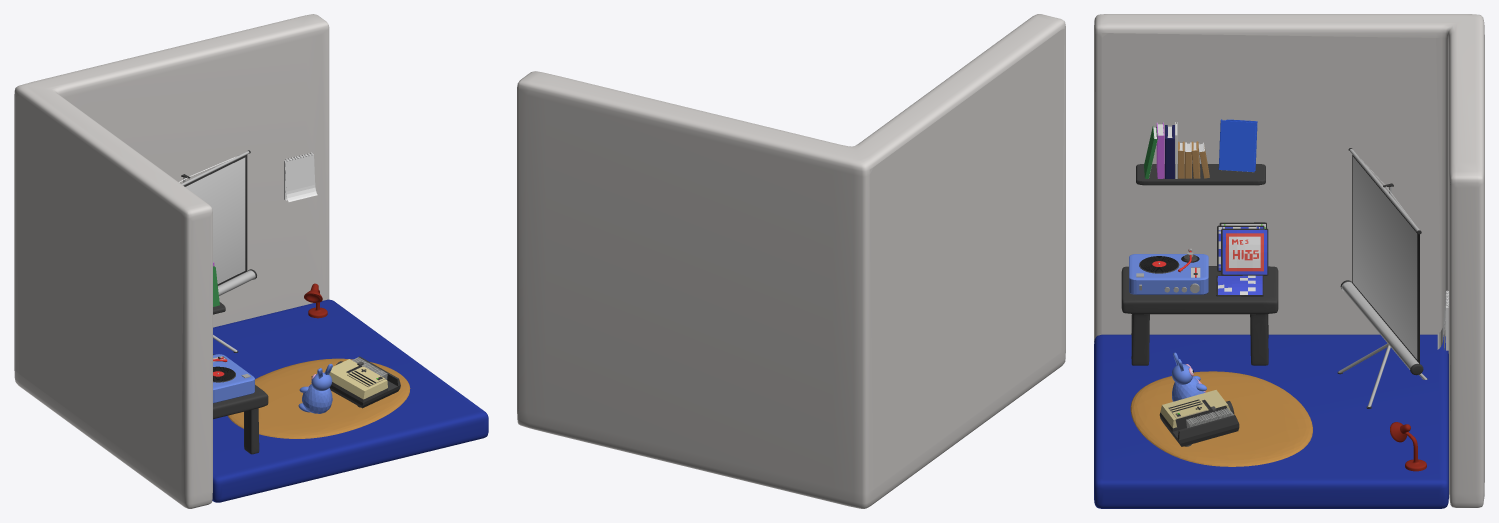
The model's file is projection_room_2.glb.
3 renders of one model, left to right at view 1: azimuth 30°, elevation 25°; view 2: azimuth 150°, elevation 25°; view 3: azimuth 270°, elevation 25°, orthographic. The views are drawn at different scales.
Visible parts, largest first — view 1: walls, floor, rug, screen, projector, table, turntable, calendar, rabbit; view 2: walls; view 3: walls, floor, screen, rug, bookshelf, table, turntable, projector, record_2, record_3, rabbit, lamp.
Part boxes in pixels (box(x1,y1,x2,y2)): walls: box(14, 14, 329, 508); floor: box(212, 299, 488, 502); rug: box(228, 358, 410, 438); screen: box(179, 150, 256, 352); projector: box(329, 356, 400, 408); table: box(213, 354, 268, 454); turntable: box(213, 354, 254, 403); calendar: box(284, 152, 317, 201); rabbit: box(298, 363, 332, 413); walls: box(517, 14, 1065, 508); walls: box(1094, 14, 1484, 507); floor: box(1094, 334, 1448, 508); screen: box(1337, 148, 1427, 408); rug: box(1130, 371, 1312, 466); bookshelf: box(1136, 119, 1265, 185); table: box(1121, 266, 1278, 365); turntable: box(1129, 248, 1208, 294); projector: box(1159, 390, 1239, 446); record_2: box(1221, 228, 1268, 275); record_3: box(1216, 275, 1263, 296); rabbit: box(1171, 352, 1206, 401); lamp: box(1390, 422, 1426, 471).
Bounding box in the file's own units: 3.3 × 3.12 × 3.3.
